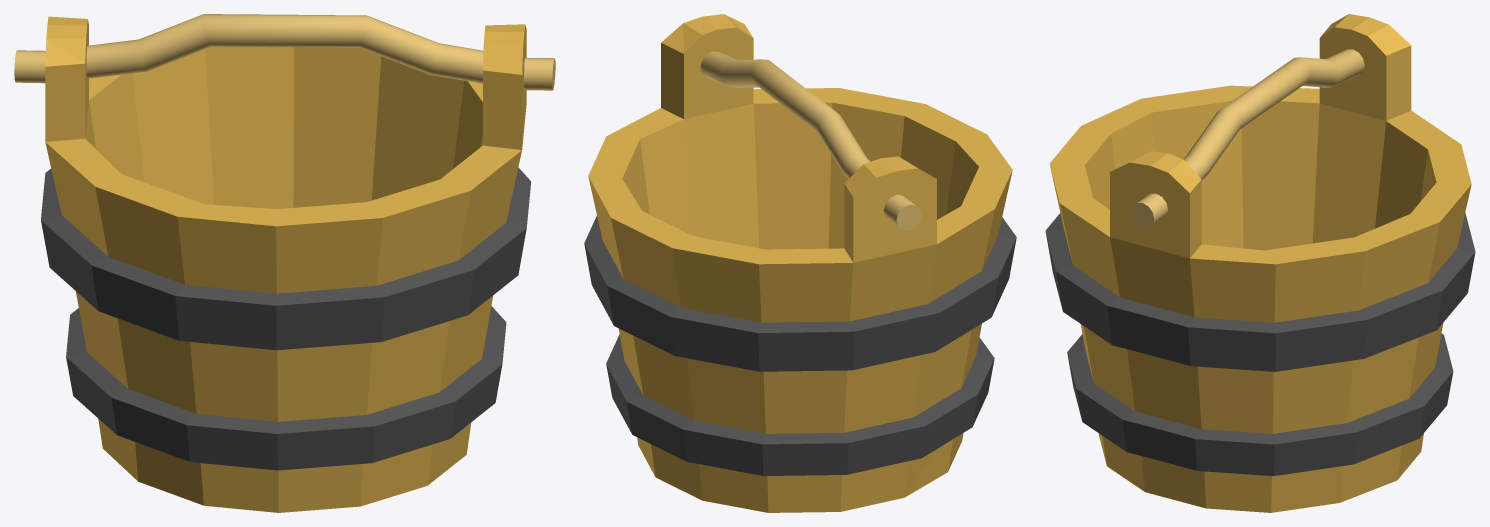
File: bucket_textured.fbx
The picture shows the model from 3 angles, left to right: view 1: azimuth 30°, elevation 25°; view 2: azimuth 150°, elevation 25°; view 3: azimuth 270°, elevation 25°; orthographic projection. The views are drawn at different scales.
Parts seen in each view (by area): view 1: Bucket, BucketHandle; view 2: Bucket, BucketHandle; view 3: Bucket, BucketHandle.
Boxes of the visible parts, x1,y1,x2,y2 form: Bucket: (41, 16, 531, 512); BucketHandle: (14, 14, 555, 90); Bucket: (584, 14, 1016, 512); BucketHandle: (700, 51, 922, 230); Bucket: (1045, 14, 1475, 512); BucketHandle: (1131, 49, 1364, 228).
Size of the model in its own units: 38.05 by 35.22 by 38.
